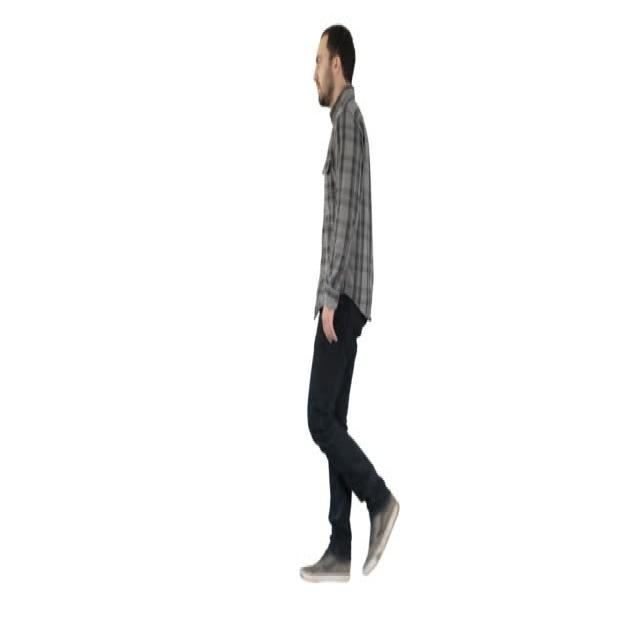Person: (299, 23, 399, 583)
